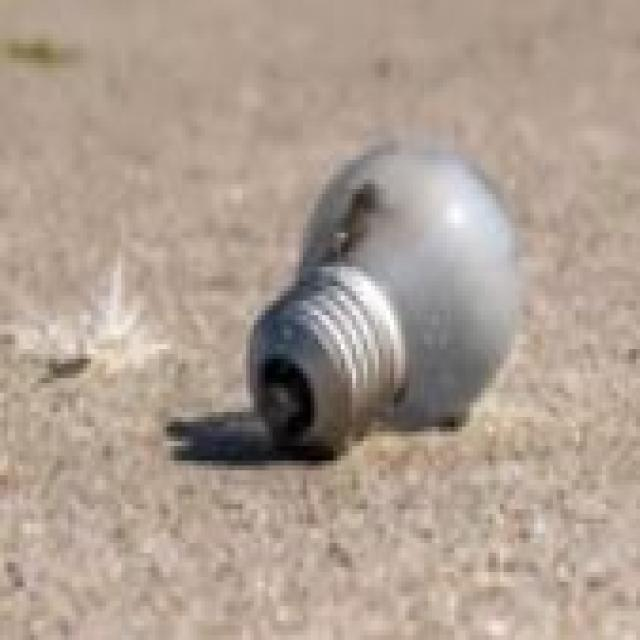electronic: (242, 136, 522, 456)
